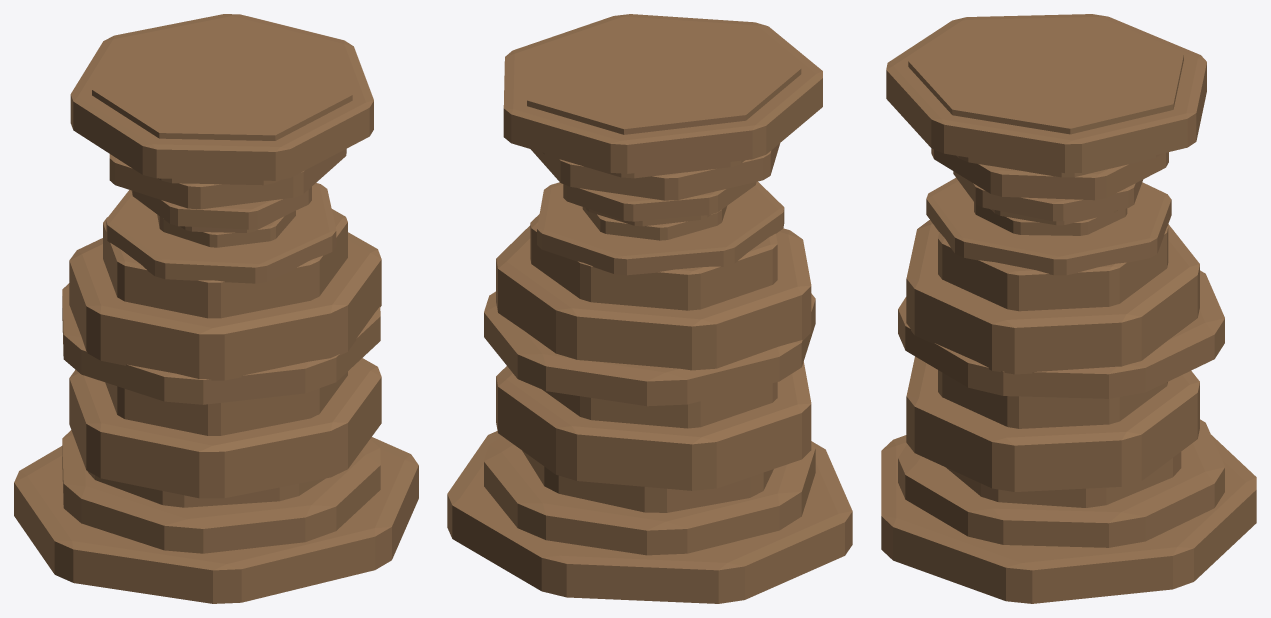
The model's file is BigRocks.fbx.
3 views of the same model, side by side, from view 1: azimuth 30°, elevation 25°; view 2: azimuth 150°, elevation 25°; view 3: azimuth 270°, elevation 25° (orthographic).
Visible parts, largest first — view 1: Cylinder; view 2: Cylinder; view 3: Cylinder.
Part boxes in pixels (left/top/right/bottom): Cylinder: left=14, top=14, right=418, bottom=603; Cylinder: left=447, top=14, right=852, bottom=603; Cylinder: left=881, top=14, right=1256, bottom=603.
Bounding box in the file's own units: 392 × 469 × 357.
